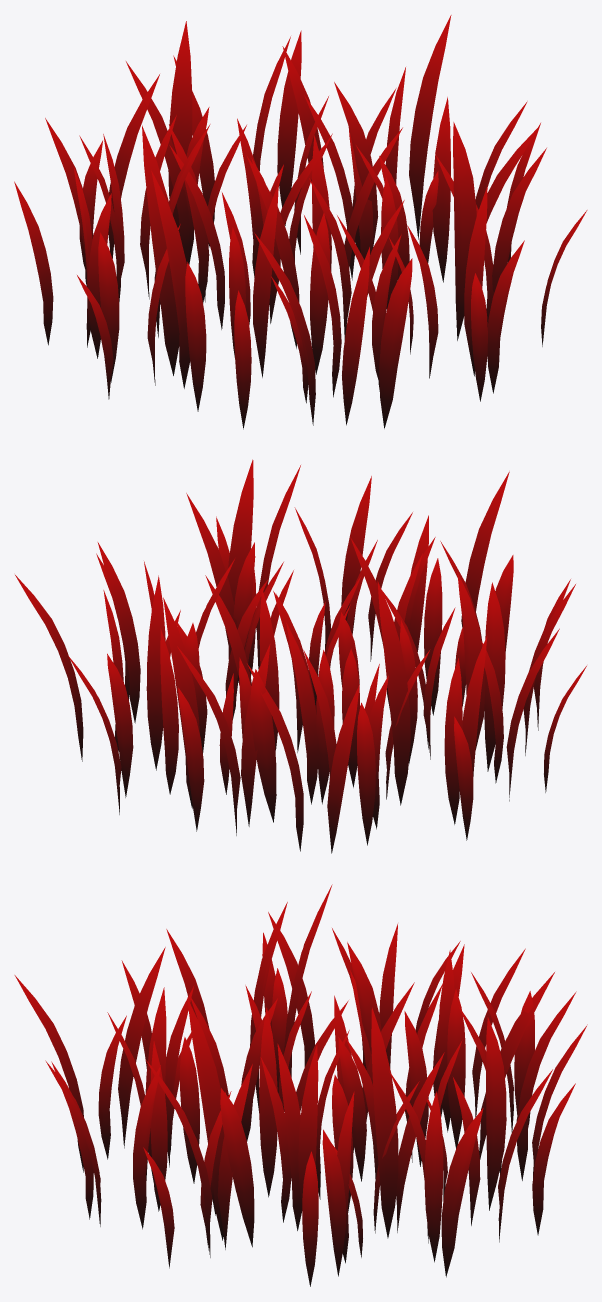
File: GrassSingle_x2.fbx
3 renders of one model, top to bottom at view 1: azimuth 30°, elevation 25°; view 2: azimuth 150°, elevation 25°; view 3: azimuth 270°, elevation 25°, orthographic. The views are drawn at different scales.
Parts seen in each view (by area): view 1: Grass.002; view 2: Grass.002; view 3: Grass.002.
Part boxes in pixels (left/top/right/bottom): Grass.002: left=14, top=15, right=587, bottom=429; Grass.002: left=15, top=459, right=586, bottom=853; Grass.002: left=14, top=884, right=587, bottom=1286.
Size of the model in its own units: 3.38 by 1.58 by 3.5.
